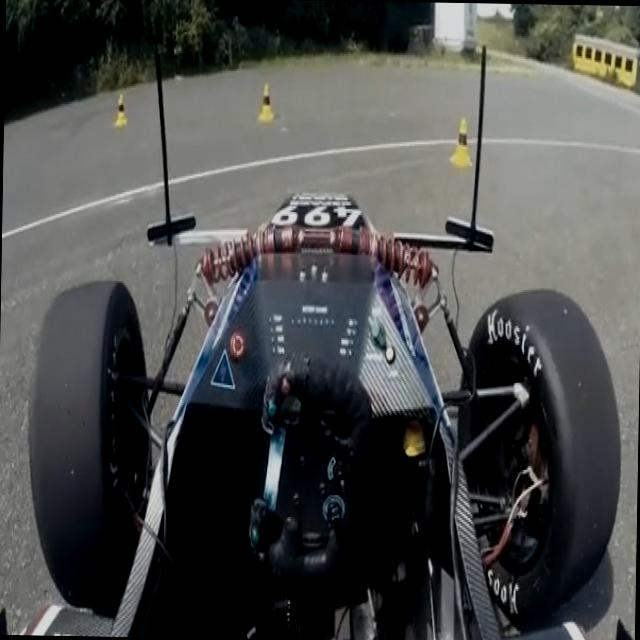yellow_cone: (452, 115, 474, 168), (258, 83, 276, 121), (113, 93, 129, 126)
